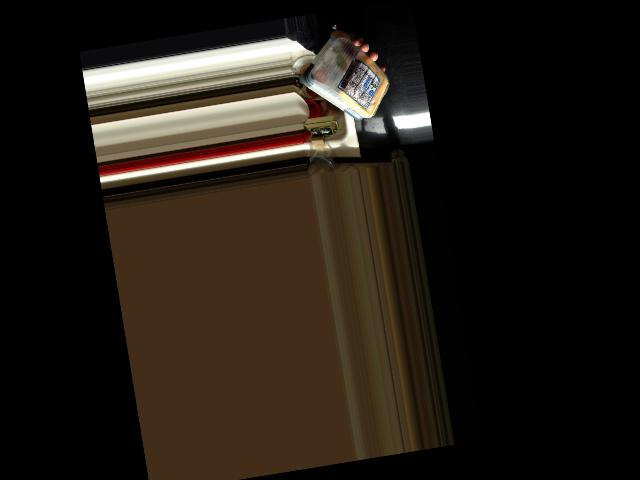cheese: (306, 29, 389, 127)
